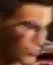kevin: (1, 5, 51, 64)
